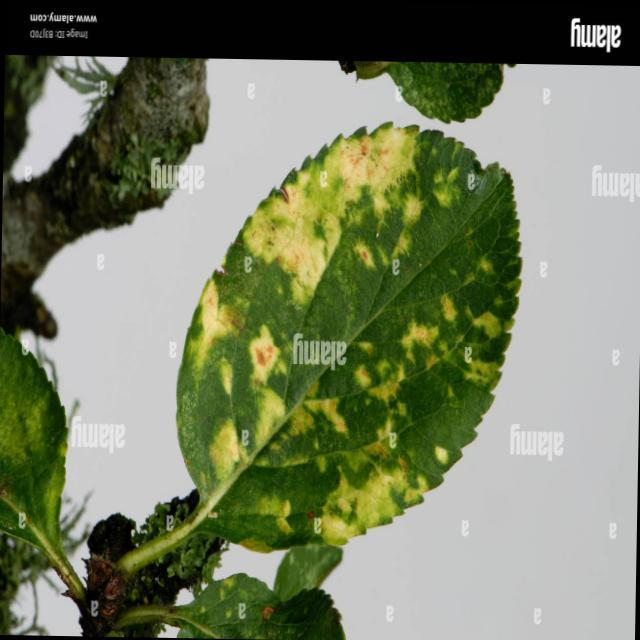Mosaic Virus: (182, 149, 518, 537)
